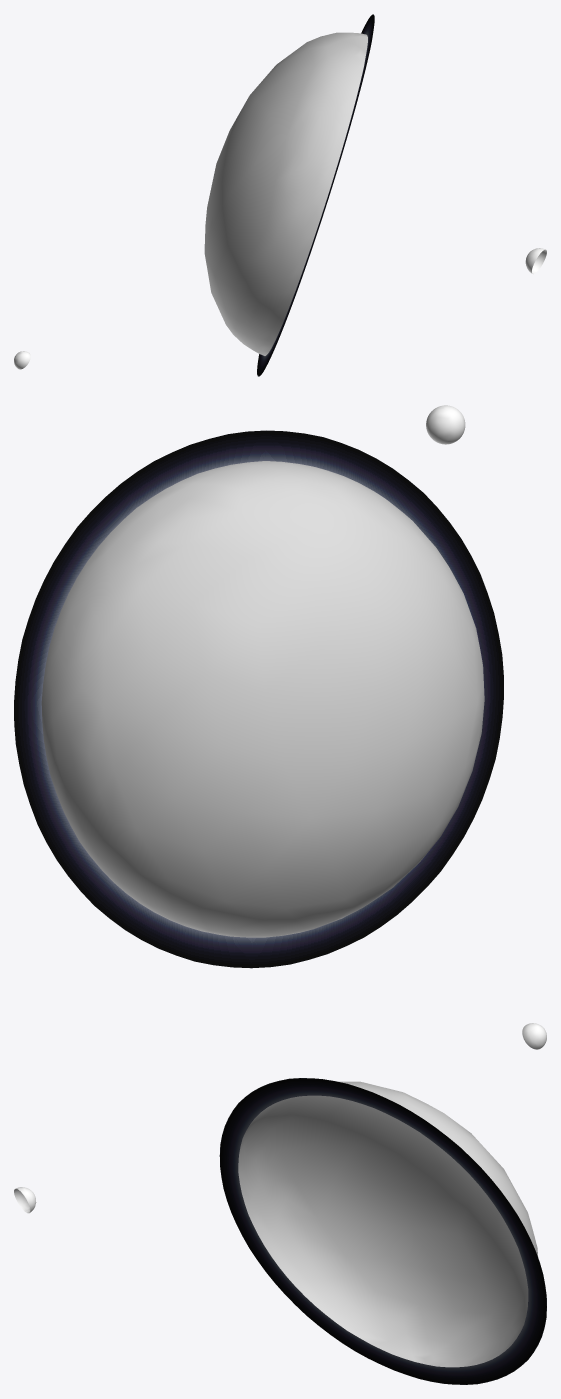
Rendered from env_space_jakku_01_pre.glb.
The picture shows the model from 3 angles, top to bottom: view 1: azimuth 30°, elevation 25°; view 2: azimuth 150°, elevation 25°; view 3: azimuth 270°, elevation 25°; orthographic projection. The views are drawn at different scales.
Parts seen in each view (by area): view 1: polySurface1; view 2: polySurface1 (×2); view 3: polySurface1 (×2).
Part boxes in pixels (x1,y1,x2,y2): polySurface1: [204, 14, 374, 376]; polySurface1 (×2): [14, 405, 503, 968]; polySurface1 (×2): [14, 1078, 546, 1384].
Size of the model in its own units: 480 by 428 by 618.
Materials: 3 (1 with a texture image).
